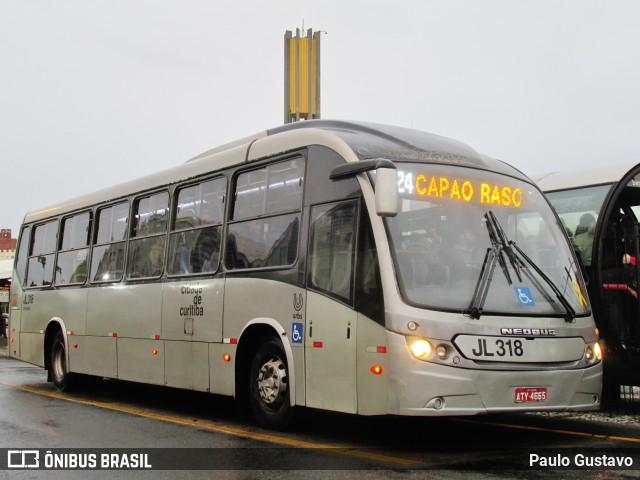CAPAO RASO: (412, 169, 527, 211)
